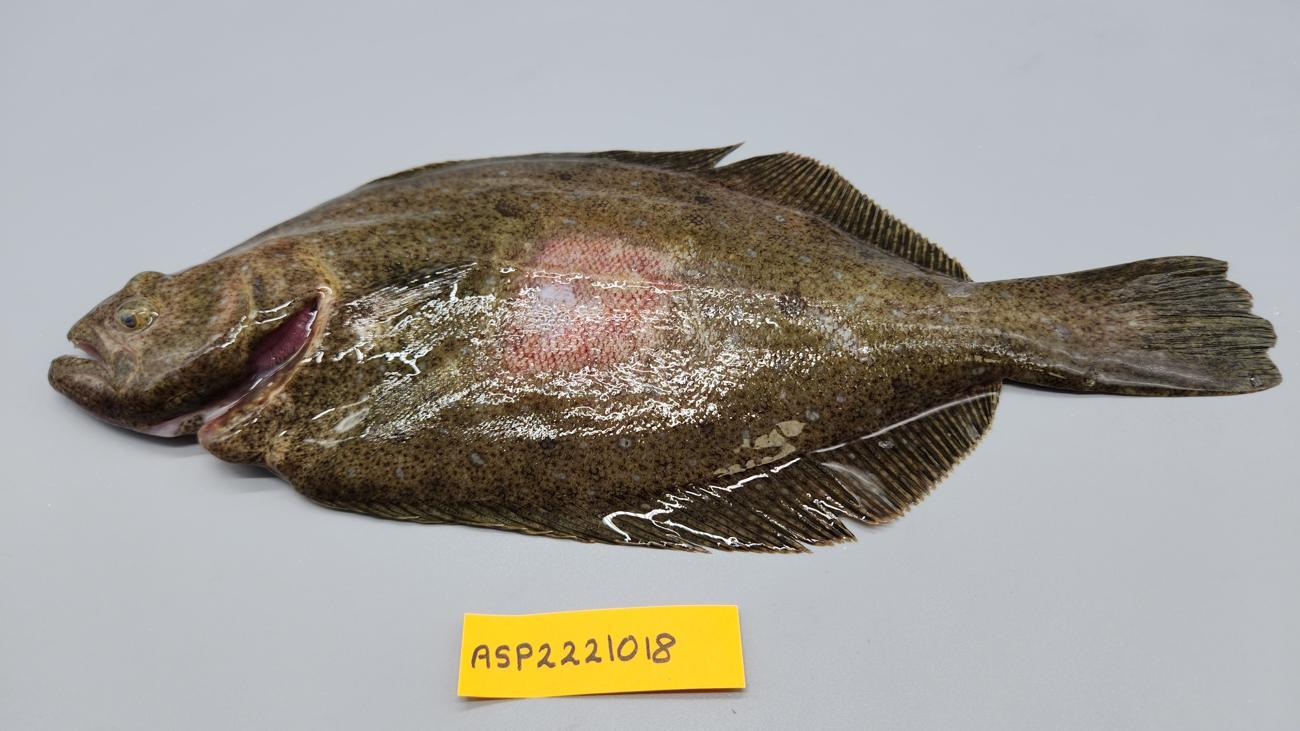SPDYH: (484, 218, 704, 385), (1019, 275, 1097, 356)
SPOUY: (40, 133, 1288, 566)
